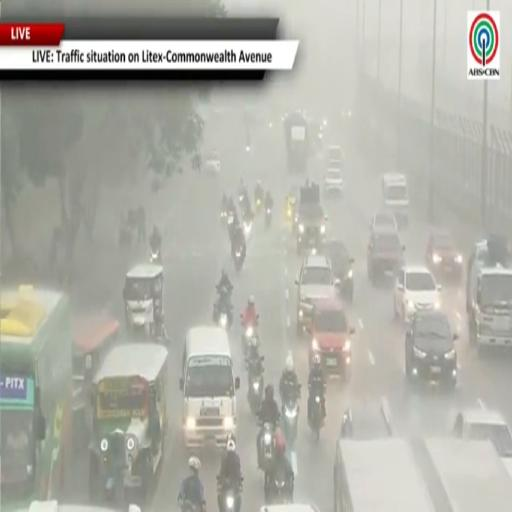bus: (0, 286, 73, 509)
car: (405, 311, 458, 389), (309, 298, 354, 380), (295, 255, 339, 333), (454, 408, 511, 459), (394, 266, 441, 323), (340, 397, 392, 440), (367, 229, 405, 283), (426, 230, 463, 280), (324, 240, 353, 302), (382, 173, 409, 227), (16, 501, 116, 511), (370, 210, 398, 232), (324, 167, 344, 195), (261, 504, 318, 511), (327, 146, 344, 169), (205, 151, 220, 174)
jeepney: (89, 343, 167, 503), (73, 312, 119, 451), (123, 264, 166, 338)
motorcycle: (265, 467, 292, 504), (247, 357, 264, 414), (282, 397, 299, 445), (218, 477, 242, 511), (240, 314, 258, 356), (259, 423, 274, 473), (214, 288, 232, 329), (309, 394, 323, 440), (179, 498, 204, 511), (233, 246, 245, 272), (150, 248, 161, 264), (218, 312, 229, 328), (226, 212, 235, 229), (244, 219, 252, 237), (265, 207, 272, 227), (255, 195, 262, 214), (221, 211, 227, 223)
truck: (466, 235, 511, 347), (296, 184, 327, 254), (283, 111, 308, 173)
